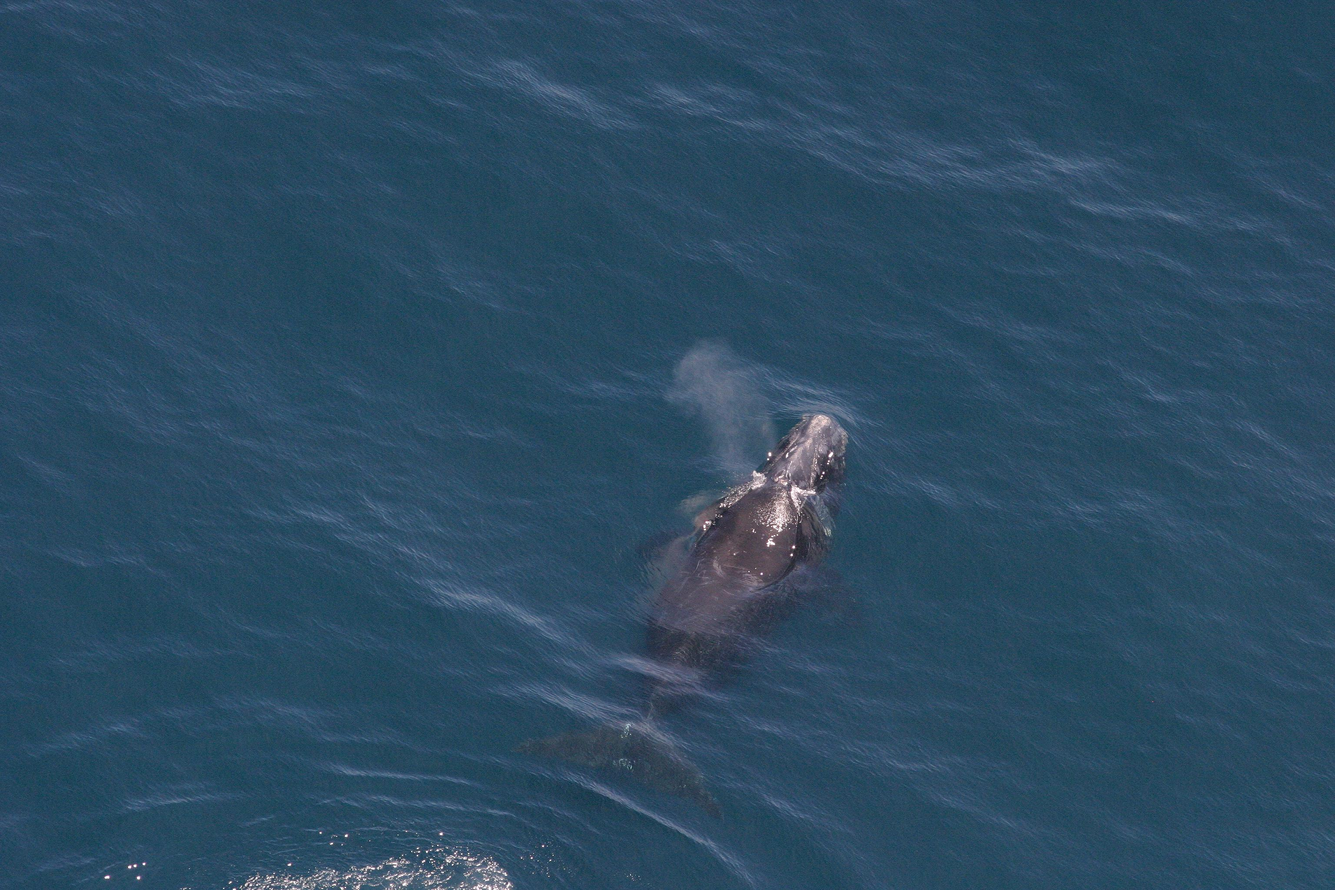whale: (510, 394, 859, 826)
